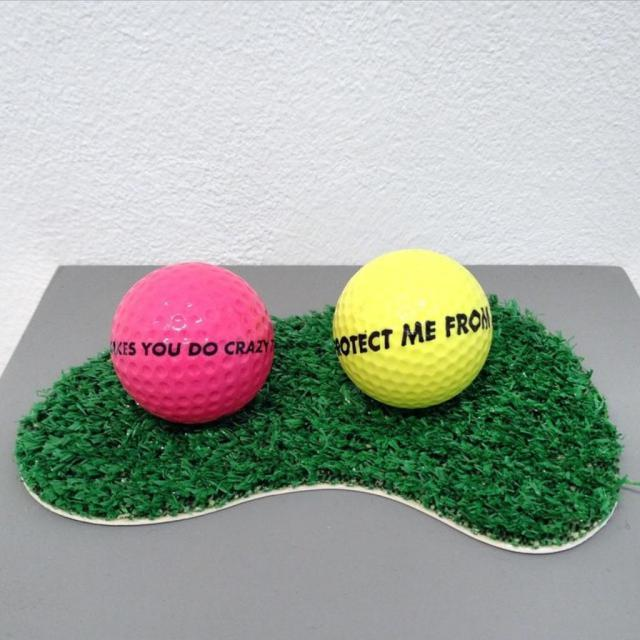GolfBall: (308, 231, 506, 420), (96, 252, 288, 432)
